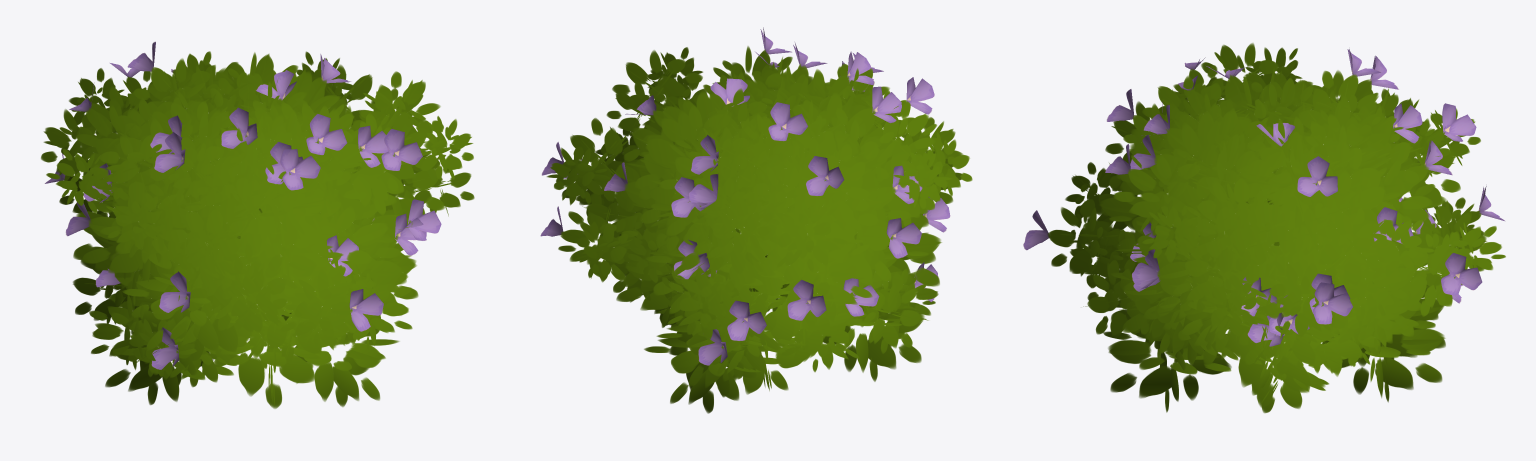
The model's file is Bush_with_Flowers_fixed.glb.
3 renders of one model, left to right at view 1: azimuth 30°, elevation 25°; view 2: azimuth 150°, elevation 25°; view 3: azimuth 270°, elevation 25°, orthographic. The views are drawn at different scales.
Parts seen in each view (by area): view 1: Bush_Common_Flowers; view 2: Bush_Common_Flowers; view 3: Bush_Common_Flowers.
Part boxes in pixels (x1,y1,x2,y2): Bush_Common_Flowers: (41, 41, 474, 408); Bush_Common_Flowers: (540, 27, 972, 413); Bush_Common_Flowers: (1023, 43, 1505, 412).
Bounding box in the file's own units: 1.91 × 1.58 × 1.97.
Materials: 2 (2 with a texture image).
